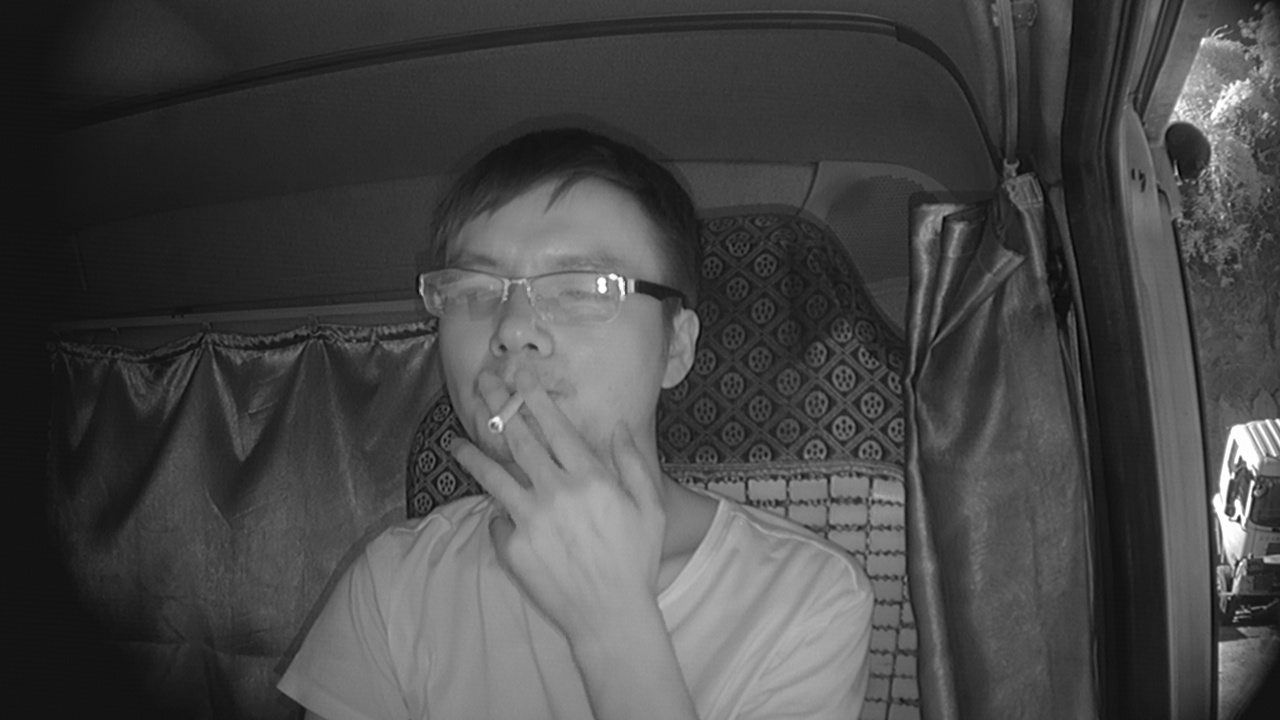hand: (459, 366, 631, 588)
